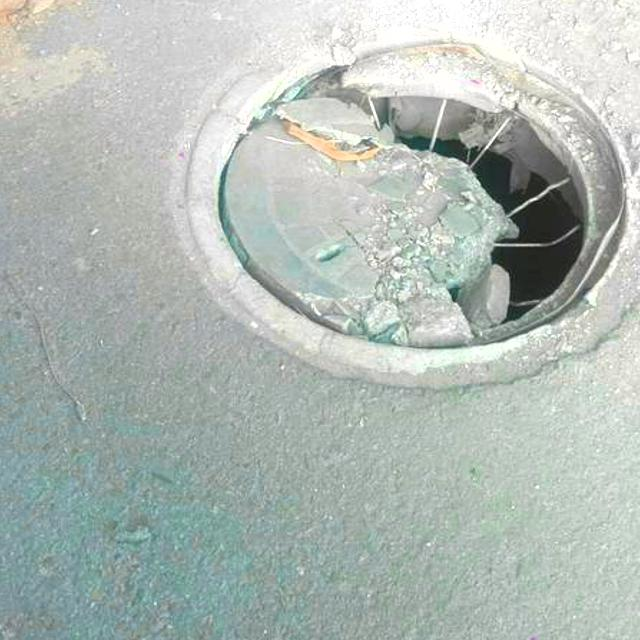broke: (167, 0, 640, 379)
